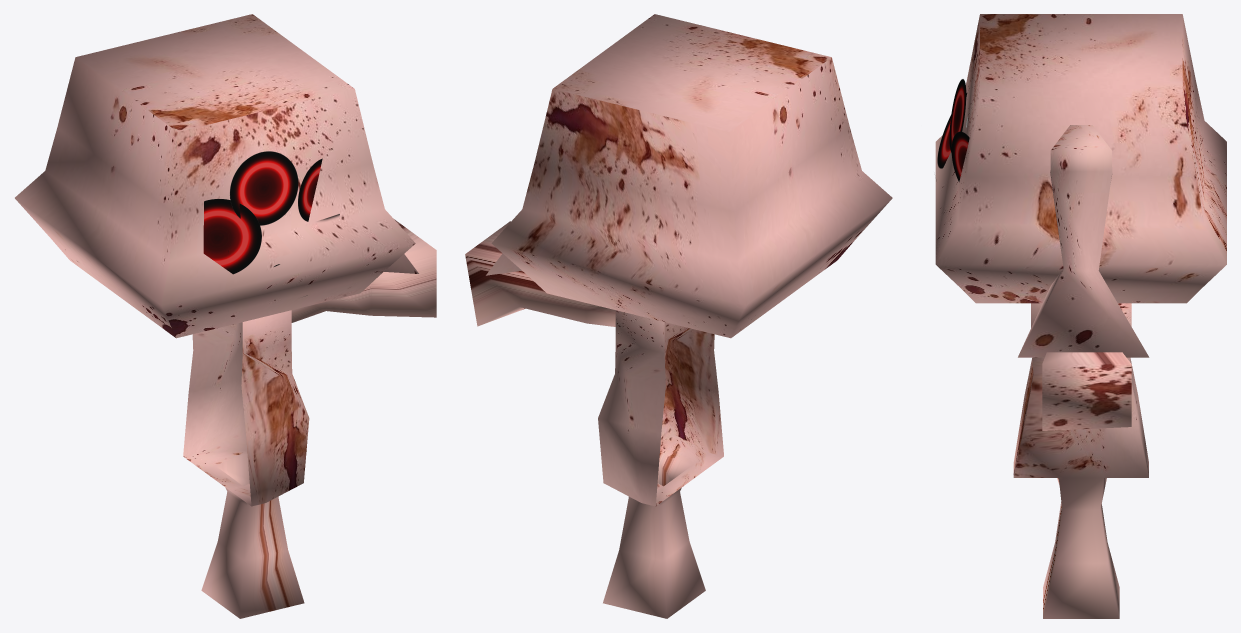
The model's file is Antagonista.glb.
3 renders of one model, left to right at view 1: azimuth 30°, elevation 25°; view 2: azimuth 150°, elevation 25°; view 3: azimuth 270°, elevation 25°, orthographic.
Parts seen in each view (by area): view 1: Cube, Cube.002, Gemini_Generated_Image_f8n9i7f8n9i7f8n9-removebg-preview.001, Gemini_Generated_Image_f8n9i7f8n9i7f8n9-removebg-preview.002, Gemini_Generated_Image_f8n9i7f8n9i7f8n9-removebg-preview; view 2: Cube, Cube.002; view 3: Cube, Cube.002, Cube.001, Gemini_Generated_Image_f8n9i7f8n9i7f8n9-removebg-preview.001, Gemini_Generated_Image_f8n9i7f8n9i7f8n9-removebg-preview, Gemini_Generated_Image_f8n9i7f8n9i7f8n9-removebg-preview.002.
Part boxes in pixels (bbox=[...]): Cube: bbox=[15, 14, 415, 338]; Cube.002: bbox=[183, 219, 436, 618]; Gemini_Generated_Image_f8n9i7f8n9i7f8n9-removebg-preview.001: bbox=[230, 151, 298, 225]; Gemini_Generated_Image_f8n9i7f8n9i7f8n9-removebg-preview.002: bbox=[203, 198, 261, 274]; Gemini_Generated_Image_f8n9i7f8n9i7f8n9-removebg-preview: bbox=[298, 158, 322, 221]; Cube: bbox=[491, 14, 892, 338]; Cube.002: bbox=[465, 221, 723, 618]; Cube: bbox=[935, 14, 1226, 303]; Cube.002: bbox=[1013, 303, 1148, 618]; Cube.001: bbox=[1018, 125, 1149, 357]; Gemini_Generated_Image_f8n9i7f8n9i7f8n9-removebg-preview.001: bbox=[949, 79, 966, 152]; Gemini_Generated_Image_f8n9i7f8n9i7f8n9-removebg-preview: bbox=[951, 131, 969, 182]; Gemini_Generated_Image_f8n9i7f8n9i7f8n9-removebg-preview.002: bbox=[937, 93, 967, 168].
Bounding box in the file's own units: 2.74 × 4.25 × 2.23.
Materials: 6 (5 with a texture image).
